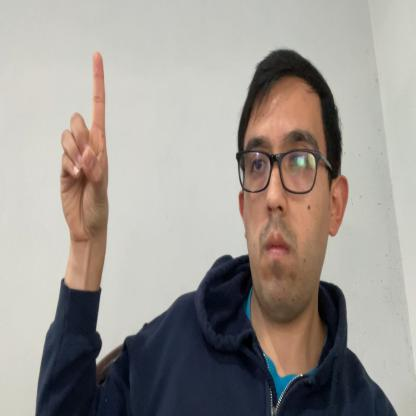D: (60, 50, 108, 249)
